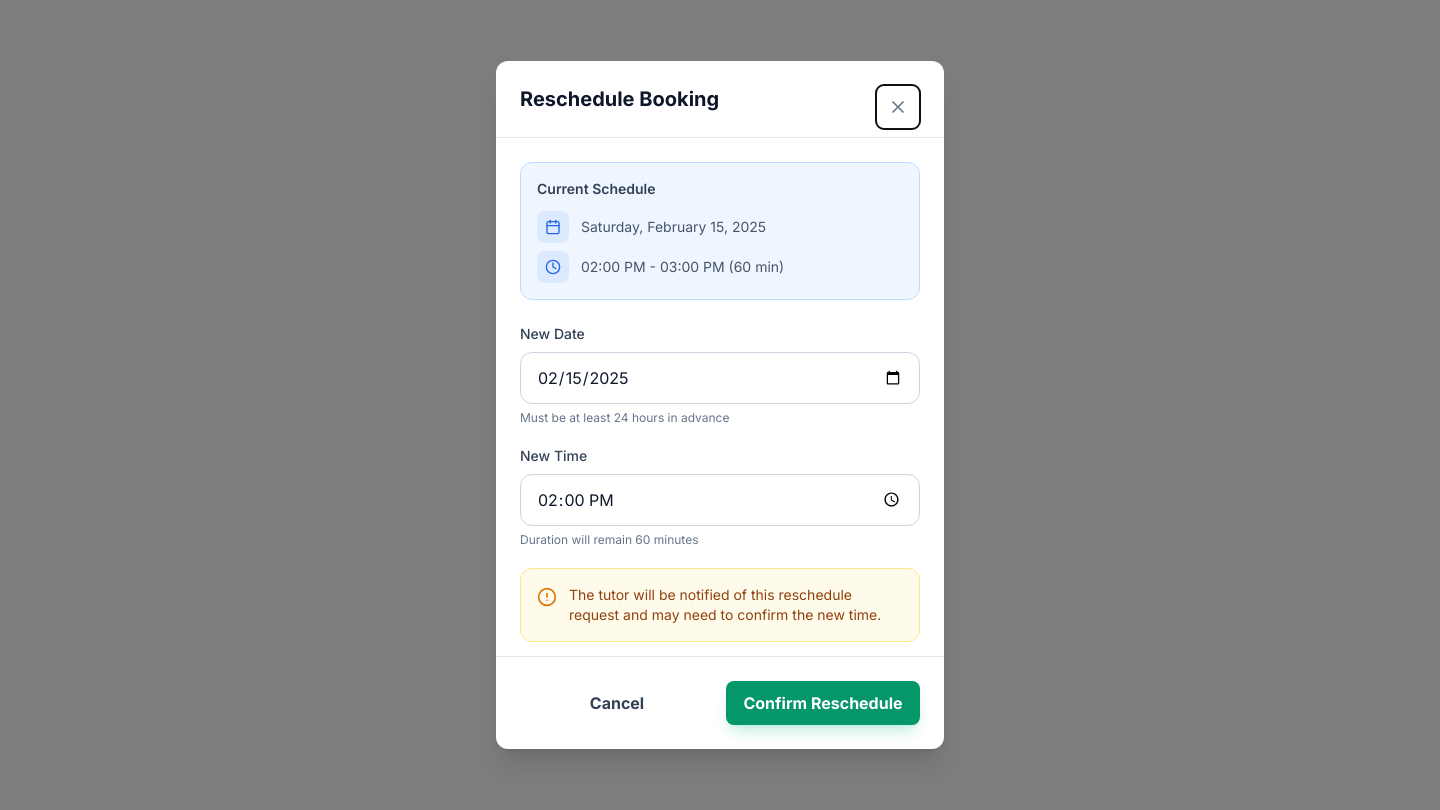
Test: RescheduleBookingModal › validation › disables submit button when date is empty
The width and height of the screenshot is (1440, 810).
Clear the date field labelled "New Date" at (720, 378), box [520,352,920,404]
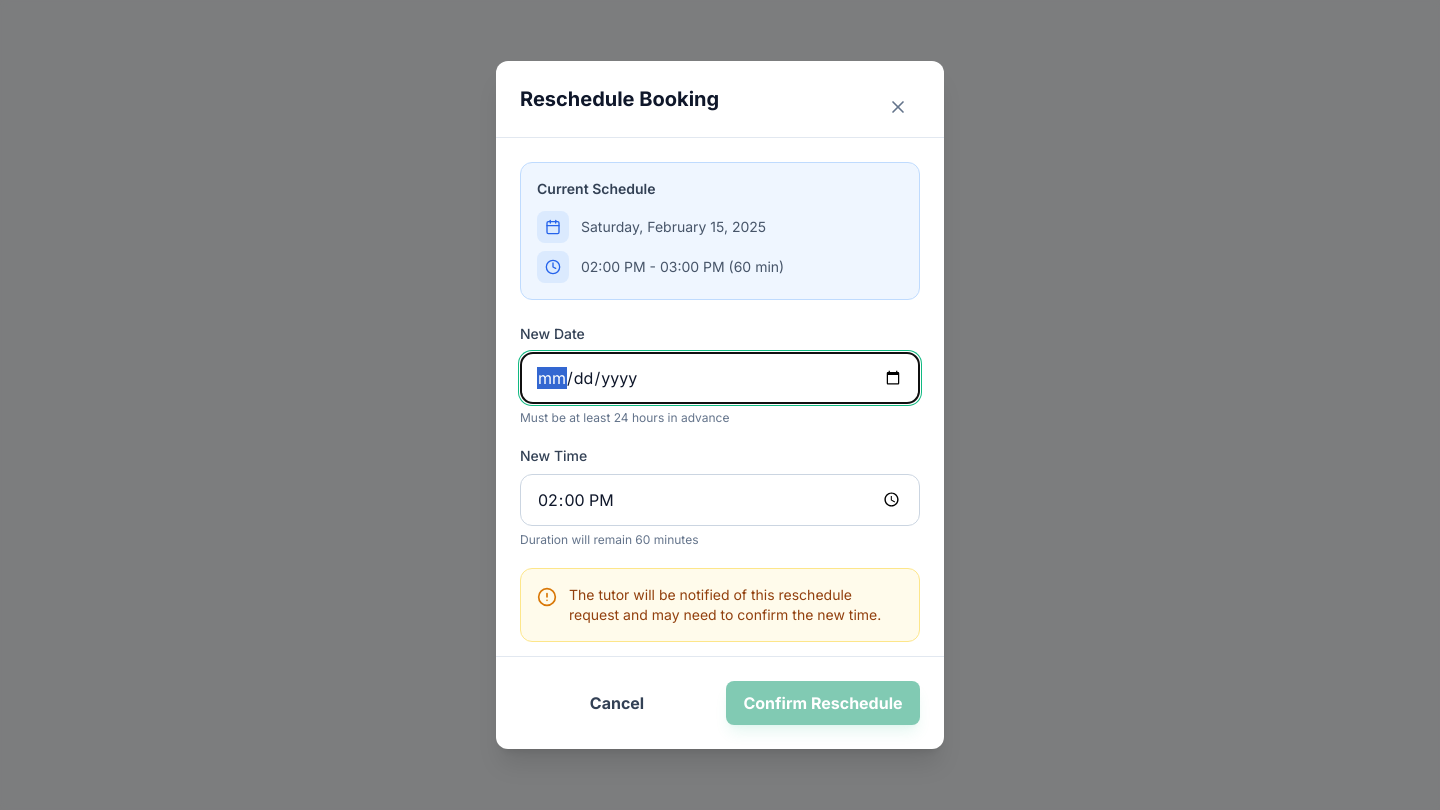
Check: the button "Confirm Reschedule" is disabled, box [726,681,920,725]
